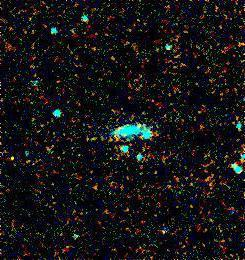star: (0, 141, 27, 171)
